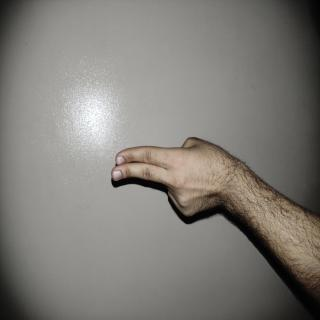TA: (70, 145, 143, 320)
